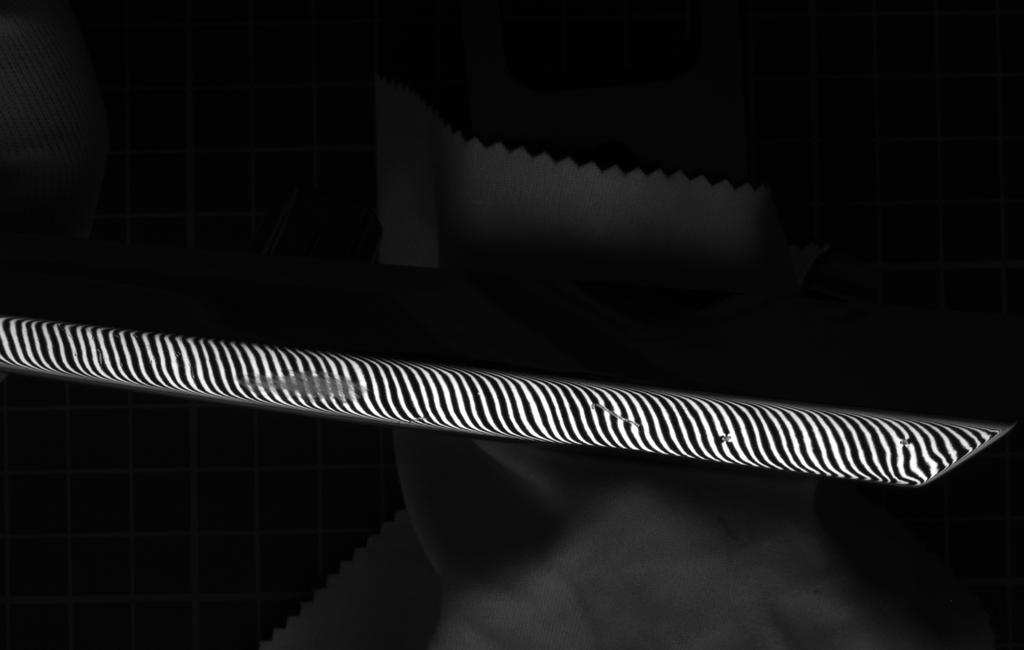Pierced: (711, 428, 739, 450), (894, 434, 921, 454)
Pitting: (225, 357, 380, 409)
Scratch: (585, 393, 655, 439)
